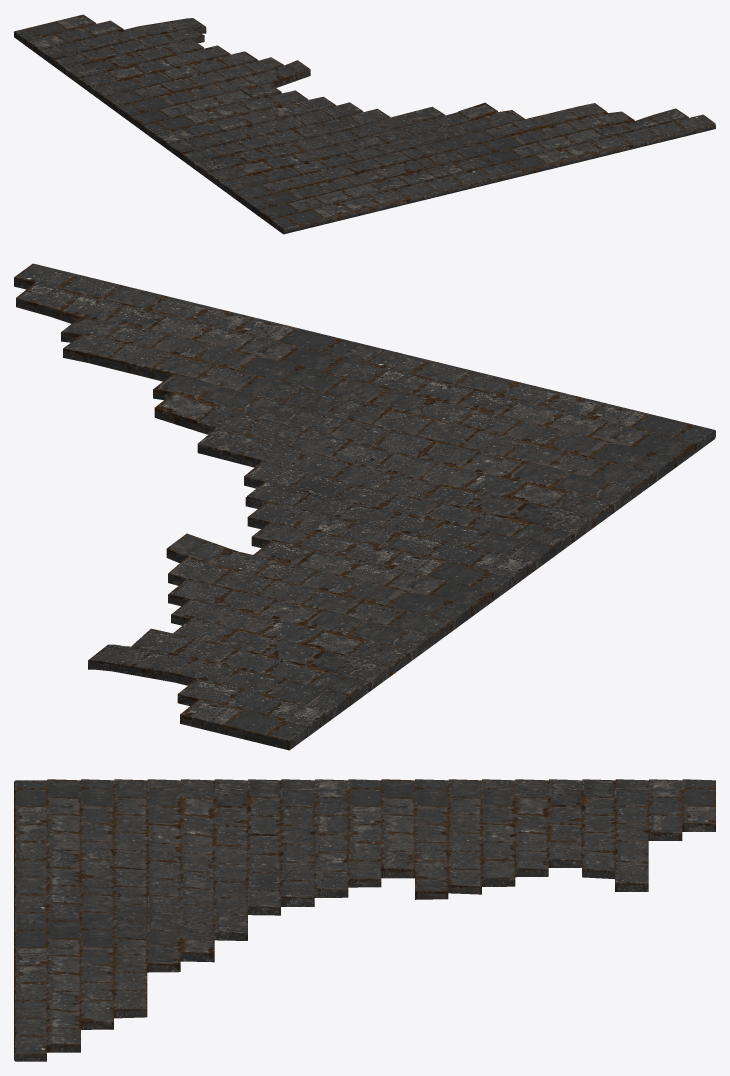
Rendered from RoofBrokenL.fbx.
3 views of the same model, one above another, from view 1: azimuth 30°, elevation 25°; view 2: azimuth 150°, elevation 25°; view 3: azimuth 270°, elevation 25° (orthographic). The views are drawn at different scales.
Parts seen in each view (by area): view 1: RoofBrokenL_LOD0; view 2: RoofBrokenL_LOD0; view 3: RoofBrokenL_LOD0.
Part boxes in pixels (x1,y1,x2,y2): RoofBrokenL_LOD0: [14, 14, 715, 234]; RoofBrokenL_LOD0: [14, 263, 715, 750]; RoofBrokenL_LOD0: [14, 779, 715, 1061].
Size of what is drawn, in the model's own units: 388 by 12.2 by 420.
